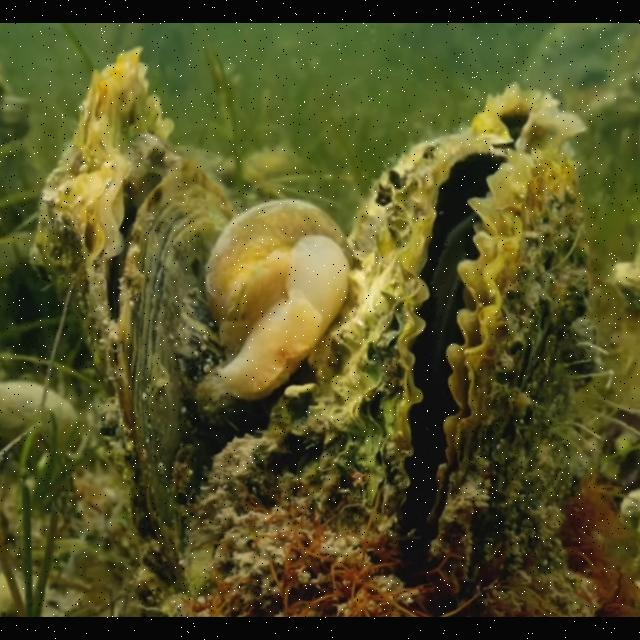Oyster-Open: (298, 81, 596, 595), (32, 45, 238, 593)
